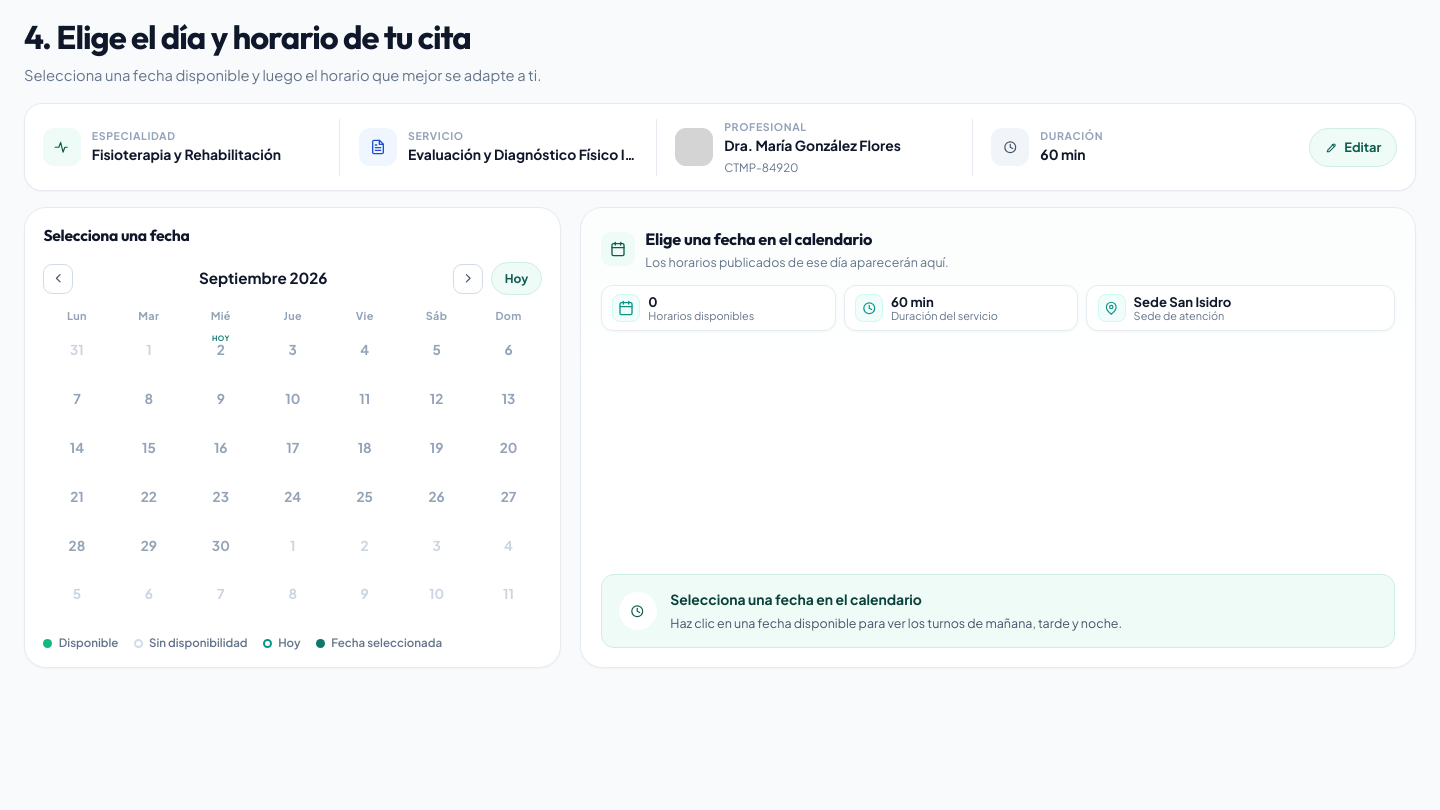
Test: AppointmentScheduleStep (Step 4) › returns to the current month with the Hoy shortcut
The image size is (1440, 810).
Click the button named "Mes siguiente": (468, 278) x1=453 y1=264 x2=483 y2=294
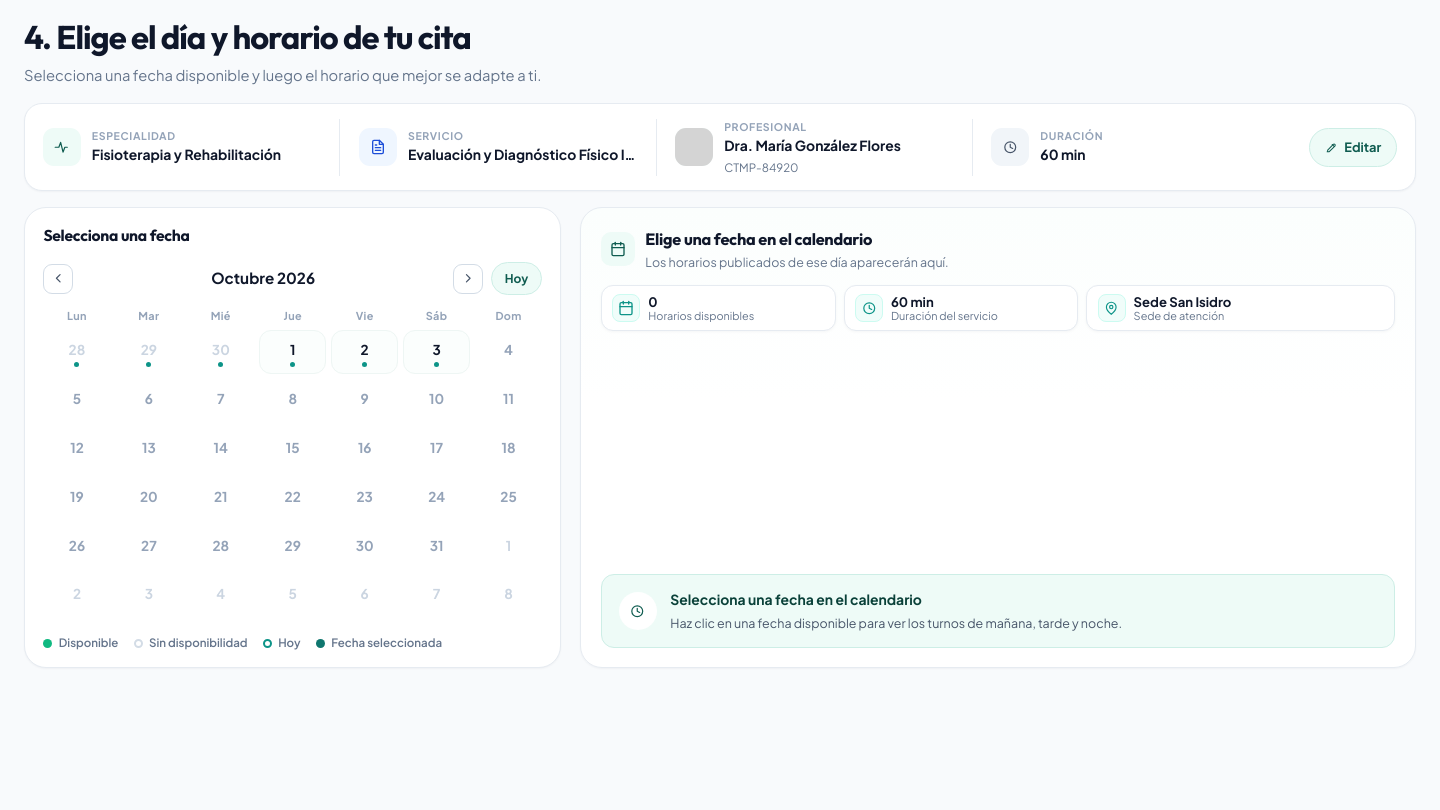
Result: the text "Octubre 2026" is shown at x1=211 y1=268 x2=315 y2=287
Click the button "Hoy": (517, 278) x1=491 y1=262 x2=542 y2=295
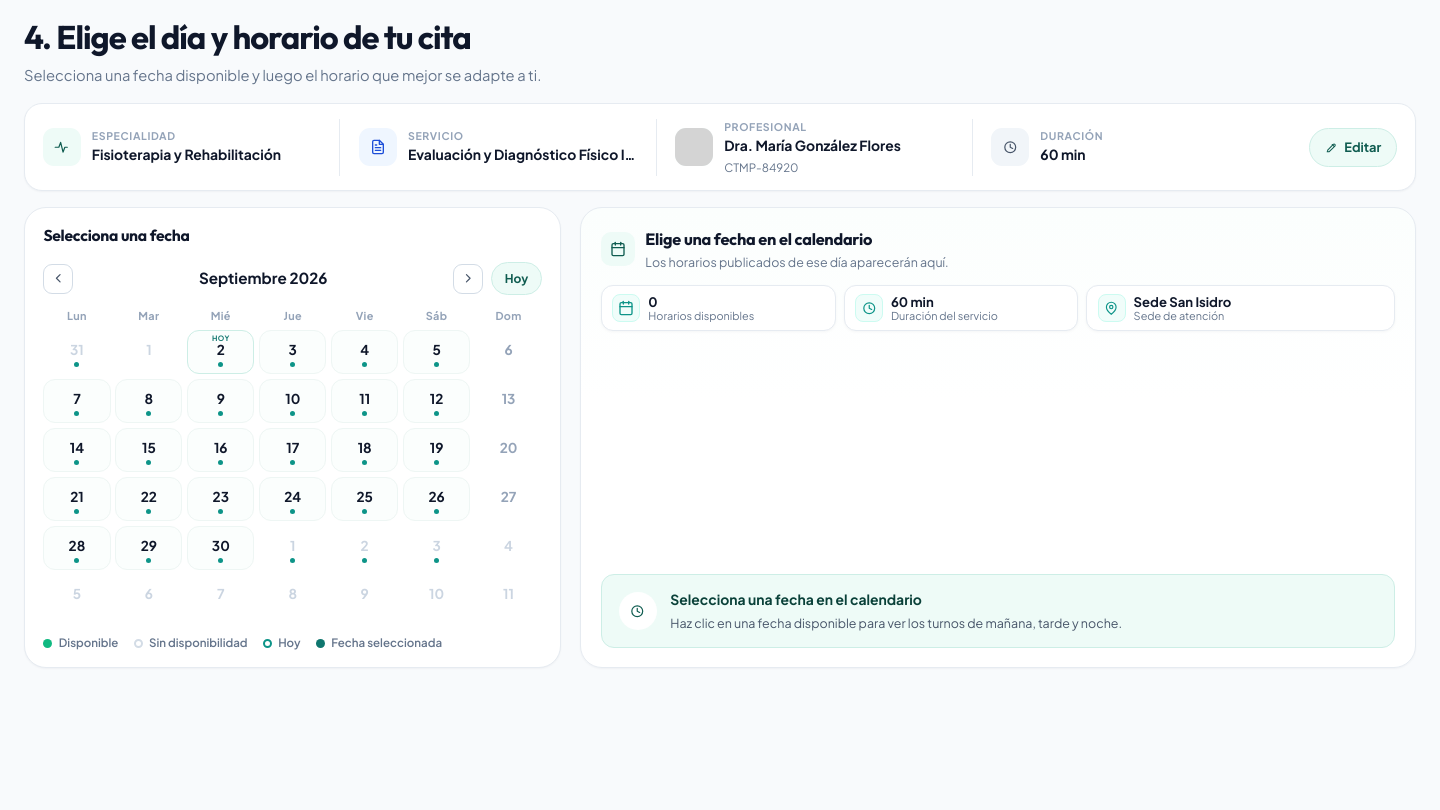
Result: the text "Septiembre 2026" is shown at x1=199 y1=268 x2=327 y2=287
